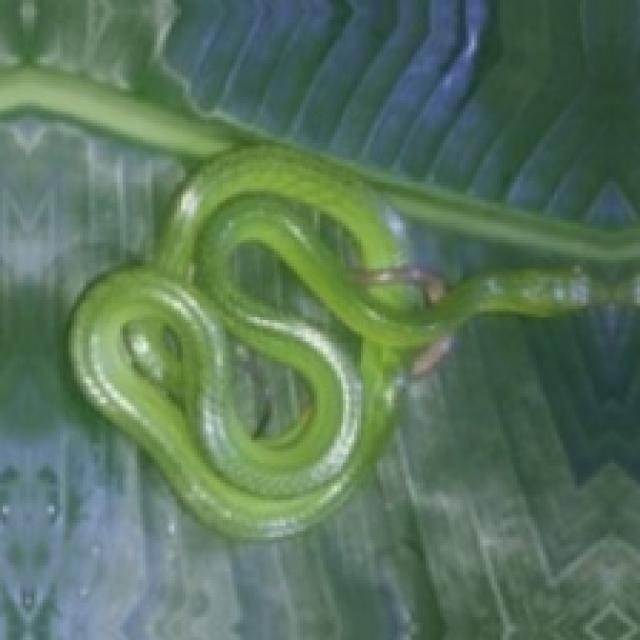red-tailed green ratsnake: (0, 66, 637, 537)
